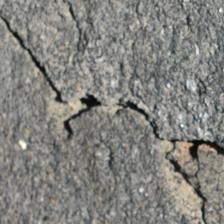Crack: (0, 0, 86, 107), (9, 14, 88, 126), (9, 35, 105, 97), (50, 4, 110, 92)
